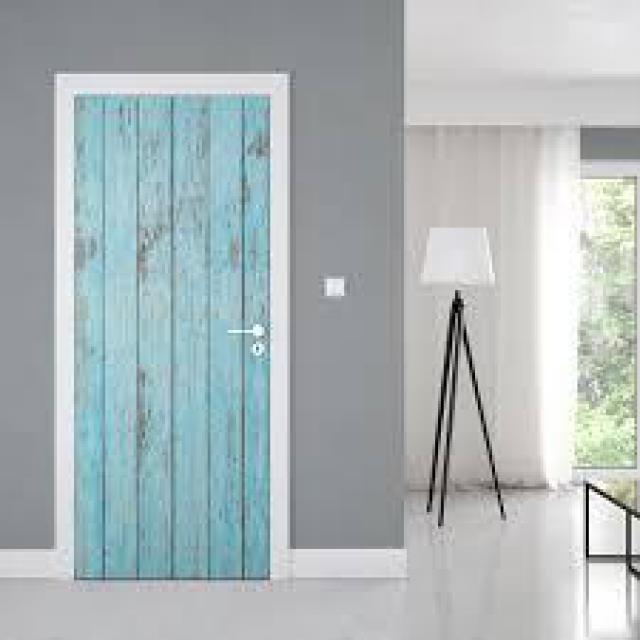close: (31, 54, 310, 614)
